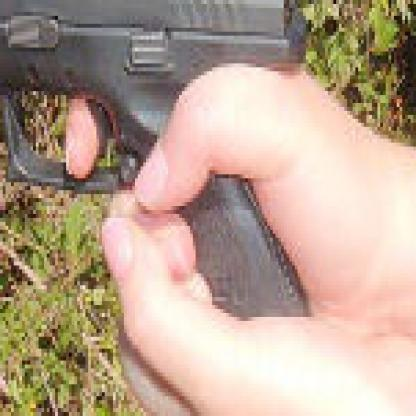gun: (0, 0, 317, 325)
